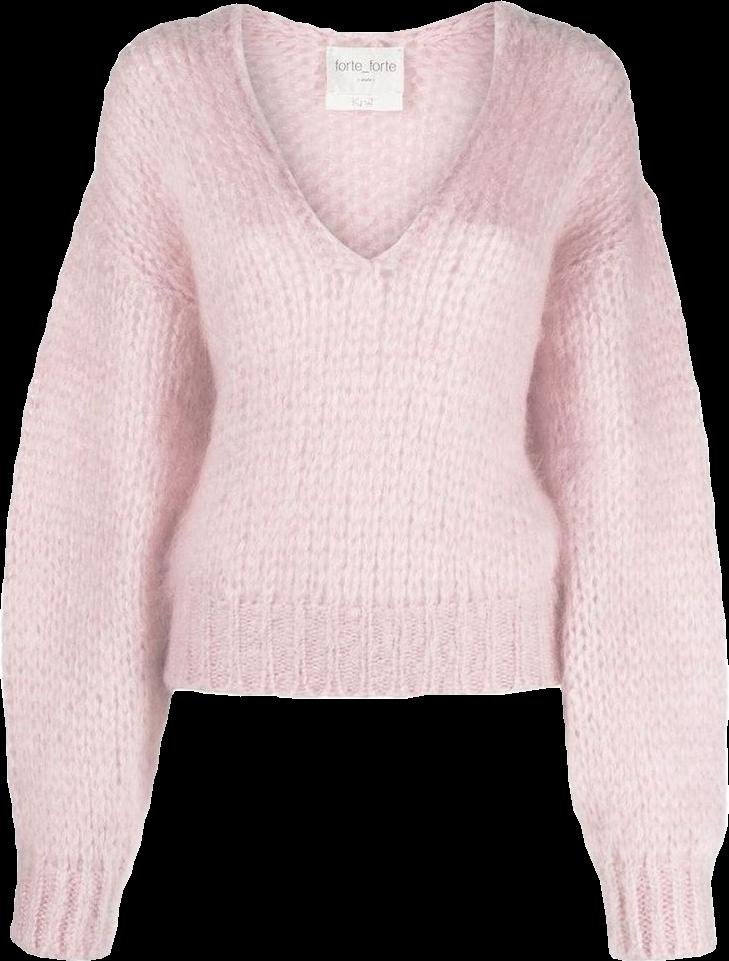Bodice: (116, 2, 631, 697)
Neckline: (235, 0, 504, 272)
Sleeve: (0, 61, 203, 959), (530, 100, 728, 960)
Sleeveline: (115, 55, 199, 296), (558, 96, 637, 269), (81, 202, 196, 304), (561, 189, 654, 273), (16, 843, 130, 884), (596, 856, 717, 876)
Waistline: (163, 678, 566, 705)
